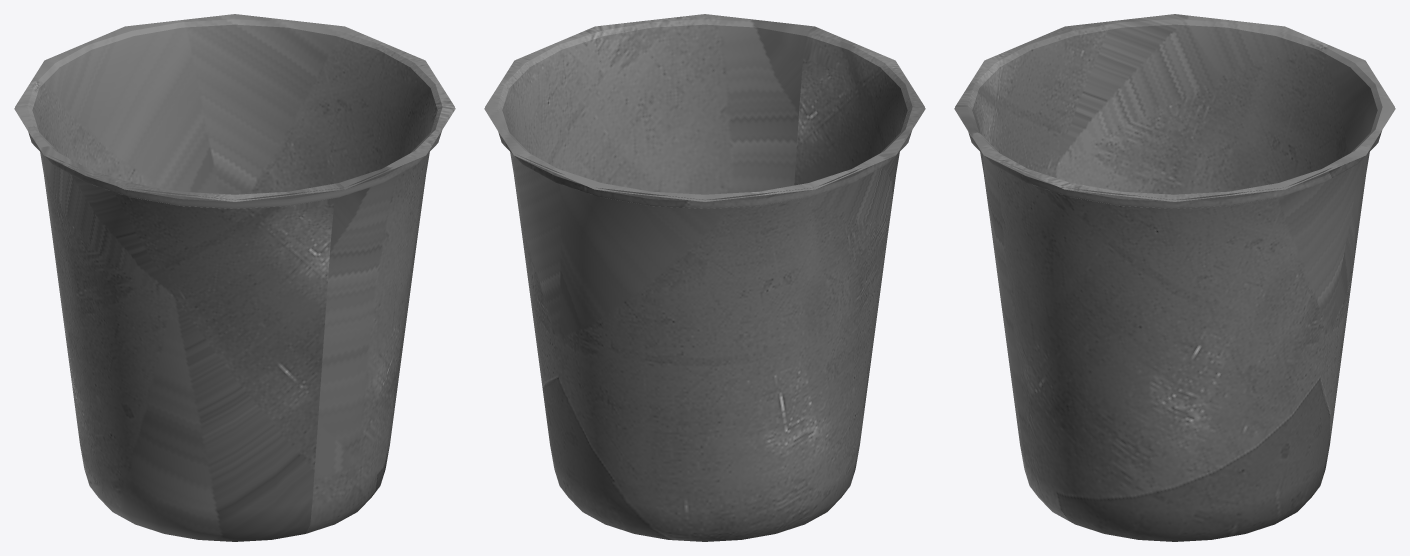
The model's file is mülleimer.obj.
3 renders of one model, left to right at view 1: azimuth 30°, elevation 25°; view 2: azimuth 150°, elevation 25°; view 3: azimuth 270°, elevation 25°, orthographic.
Visible parts, largest first — view 1: papierkorb.001_Cylinder.027; view 2: papierkorb.001_Cylinder.027; view 3: papierkorb.001_Cylinder.027.
Boxes of the visible parts, left/top/right/bottom form: papierkorb.001_Cylinder.027: left=14, top=14, right=455, bottom=541; papierkorb.001_Cylinder.027: left=484, top=14, right=925, bottom=541; papierkorb.001_Cylinder.027: left=954, top=14, right=1395, bottom=541.
Bounding box in the file's own units: 6.13 × 5.83 × 6.13.
